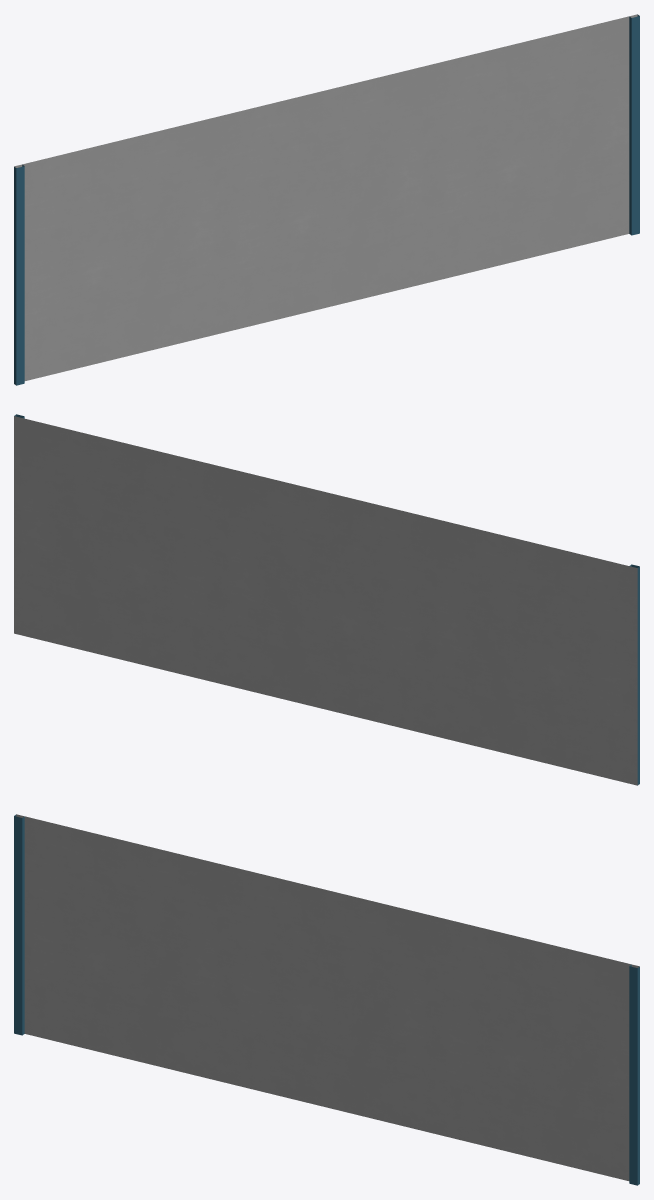
Rendered from SM06_Building_WallPanel_Exterior_01_Mid_01.fbx.
3 views of the same model, one above another, from view 1: azimuth 30°, elevation 25°; view 2: azimuth 150°, elevation 25°; view 3: azimuth 330°, elevation 25° (orthographic).
Parts seen in each view (by area): view 1: SM06_Building_WallPanel_Exterior_01_Mid_01; view 2: SM06_Building_WallPanel_Exterior_01_Mid_01; view 3: SM06_Building_WallPanel_Exterior_01_Mid_01.
Part boxes in pixels (box(x1,y1,x2,y2)): SM06_Building_WallPanel_Exterior_01_Mid_01: box(14, 14, 639, 385); SM06_Building_WallPanel_Exterior_01_Mid_01: box(14, 414, 639, 785); SM06_Building_WallPanel_Exterior_01_Mid_01: box(14, 814, 639, 1185).
Size of the model in its own units: 15 by 5 by 0.1.
